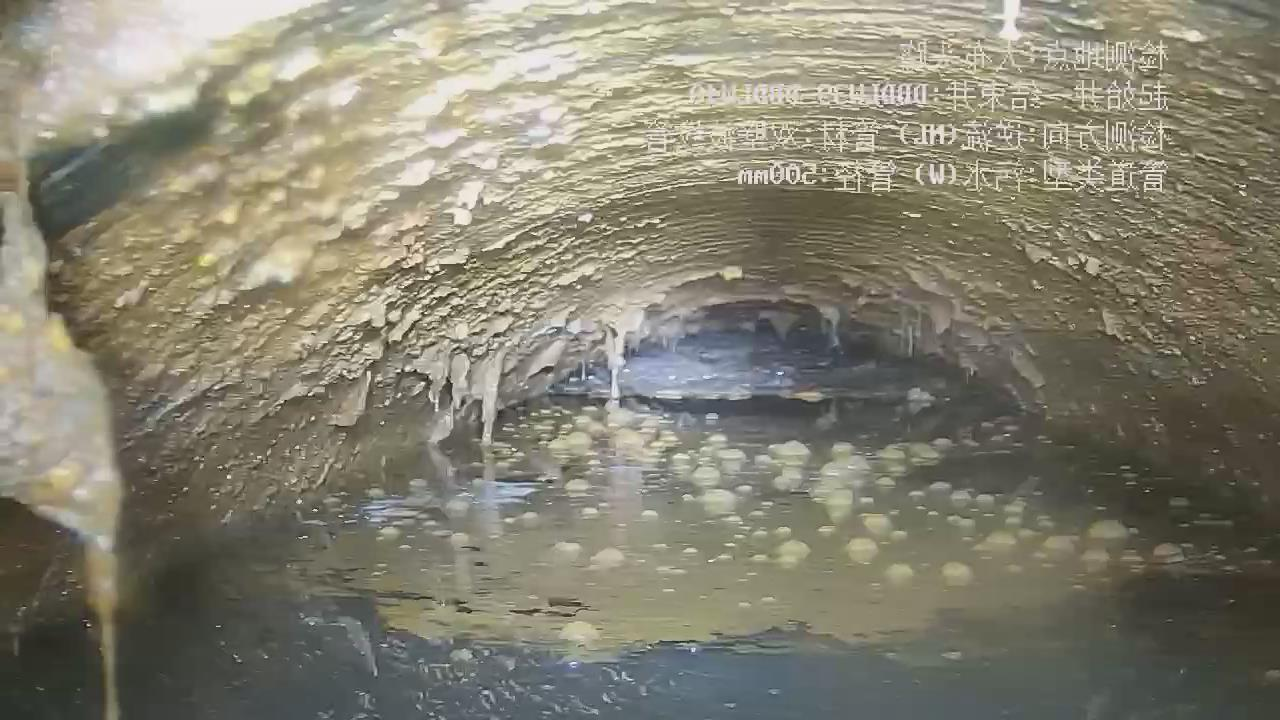FZ: (166, 305, 1280, 719)
JG: (1, 0, 1280, 648)
